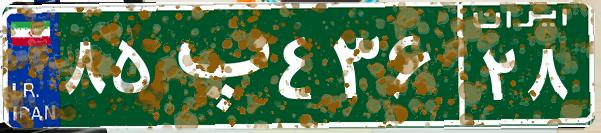2: (475, 38, 525, 113)
3: (330, 28, 385, 110)
4: (273, 28, 330, 110)
5: (110, 28, 158, 105)
6: (385, 28, 445, 110)
8: (57, 26, 110, 107), (525, 38, 570, 115)
پ: (158, 15, 273, 115)
